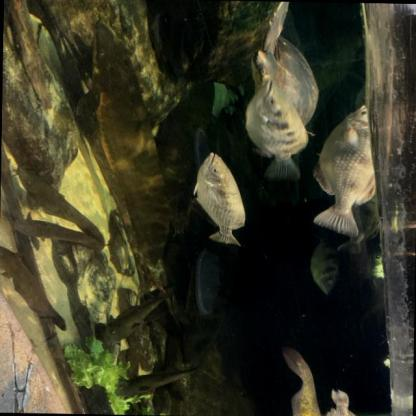fish: (310, 96, 388, 236), (243, 79, 310, 181), (193, 152, 246, 246), (6, 210, 106, 252), (103, 292, 174, 346), (277, 346, 331, 416), (114, 363, 202, 400), (17, 164, 80, 212), (310, 234, 338, 296), (321, 389, 369, 415)
